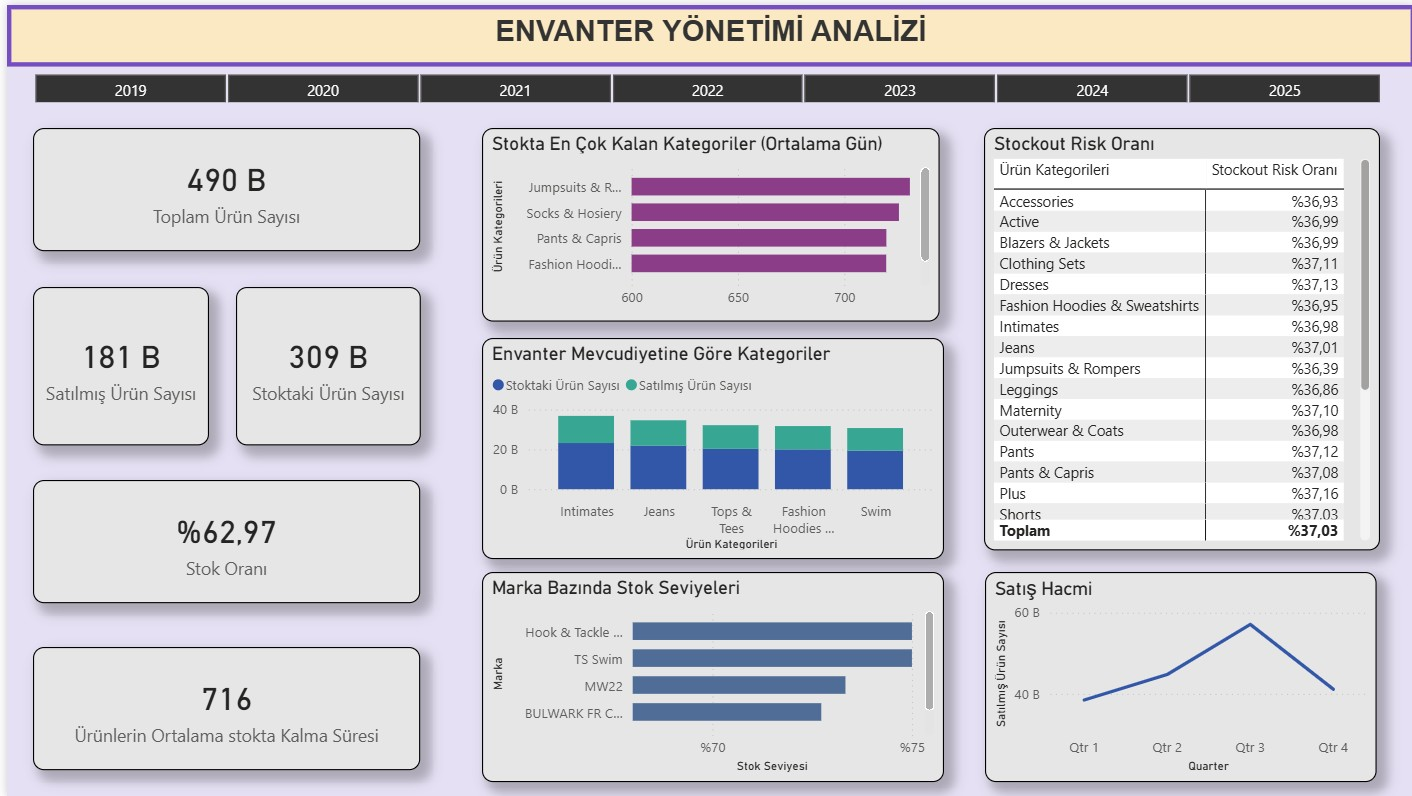

This screenshot's page, from the dashboard's own definition file:
{"tool":"powerbi","page":{"name":"Envanter Yönetimi Analizi","canvas":[1280,720],"ordinal":4},"visuals":[{"type":"card","fields":{"Values":["Measure_Göktuğ.Toplam Ürün Sayısı"]},"box":[24,112,352,112],"z":0},{"type":"card","fields":{"Values":["Measure_Göktuğ.Satılmış Ürün Sayısı"]},"box":[24,256,160,144],"z":1000},{"type":"card","fields":{"Values":["Measure_Göktuğ.Stoktaki Ürün Sayısı"]},"box":[208,256,168,144],"z":2000},{"type":"card","fields":{"Values":["Measure_Göktuğ.In Stock %"]},"box":[24,432,352,112],"z":3000},{"type":"card","fields":{"Values":["Measure_Göktuğ.Avg_stock_days"]},"box":[24,584,352,112],"z":4000},{"type":"barChart","title":"Stokta En Çok Kalan Kategoriler (Ortalama Gün)","fields":{"Category":["products.category"],"Y":["Measure_Göktuğ.Avg_stock_days"]},"box":[432,112,416,176],"z":5000},{"type":"columnChart","title":"Envanter Mevcudiyetine Göre Kategoriler","fields":{"Category":["products.category"],"Y":["Measure_Göktuğ.Stoktaki Ürün Sayısı","Measure_Göktuğ.Satılmış Ürün Sayısı"]},"box":[431.9,302.8,419.8,201.5],"z":6000},{"type":"clusteredBarChart","title":"Marka Bazında Stok Seviyeleri","fields":{"Category":["products.brand"],"Y":["Measure_Göktuğ.In Stock %"]},"box":[431.9,515.2,419.8,190.6],"z":7000},{"type":"slicer","fields":{"Values":["inventory_items.sold_at.Variation.Date Hierarchy.Year"]},"box":[0,56,1272,32],"z":8000},{"type":"pivotTable","title":"Stockout Risk Oranı","fields":{"Rows":["inventory_items.product_category"],"Values":["Measure_Göktuğ.Stockout Risk Oranı"]},"box":[888,112,360,384],"z":9000},{"type":"lineChart","title":"Satış Hacmi","fields":{"Category":["inventory_items.created_at.Variation.Date Hierarchy.Quarter"],"Y":["Measure_Göktuğ.Satılmış Ürün Sayısı"]},"box":[889.1,515.2,355.9,190.6],"z":10000},{"type":"textbox","box":[0,0,1280,56],"z":11000}]}

Visuals, with their boxes in screenshot pixels (x1, y1, x2, y2), scaled from the page's 1280x720 canvas onto the 1412x796 screenshot:
card - Measure_Göktuğ.Toplam Ürün Sayısı: x1=26, y1=124, x2=415, y2=248
card - Measure_Göktuğ.Satılmış Ürün Sayısı: x1=26, y1=283, x2=203, y2=442
card - Measure_Göktuğ.Stoktaki Ürün Sayısı: x1=229, y1=283, x2=415, y2=442
card - Measure_Göktuğ.In Stock %: x1=26, y1=478, x2=415, y2=601
card - Measure_Göktuğ.Avg_stock_days: x1=26, y1=646, x2=415, y2=769
"Stokta En Çok Kalan Kategoriler (Ortalama Gün)" barChart: x1=477, y1=124, x2=935, y2=318
"Envanter Mevcudiyetine Göre Kategoriler" columnChart: x1=476, y1=335, x2=940, y2=558
"Marka Bazında Stok Seviyeleri" clusteredBarChart: x1=476, y1=570, x2=940, y2=780
slicer - inventory_items.sold_at.Variation.Date Hierarchy.Year: x1=0, y1=62, x2=1403, y2=97
"Stockout Risk Oranı" pivotTable: x1=980, y1=124, x2=1377, y2=548
"Satış Hacmi" lineChart: x1=981, y1=570, x2=1373, y2=780
textbox: x1=0, y1=0, x2=1411, y2=62
